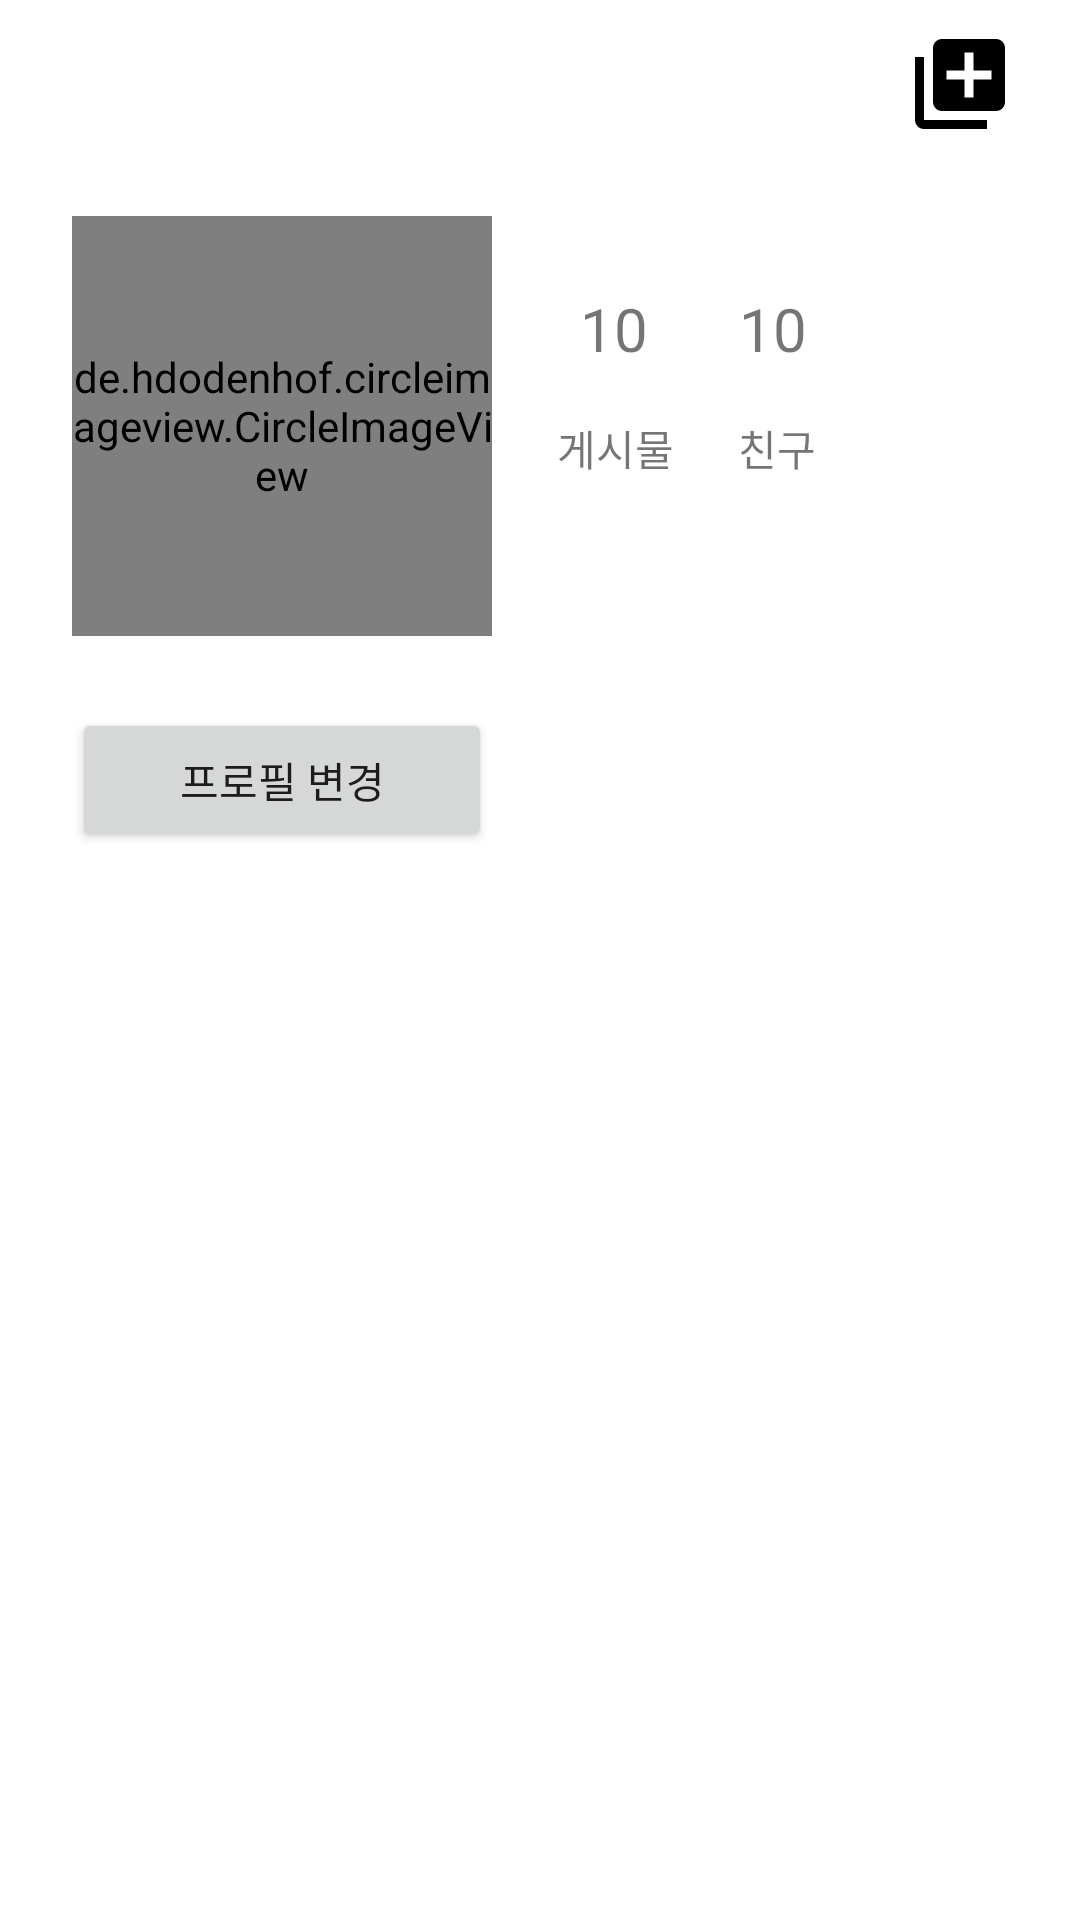

Icons on this 1080px×1920px Android screen, each with its box as bbox=[x1, y1, x2, y2]:
setting plusbutton: bbox=[915, 39, 1005, 129]
